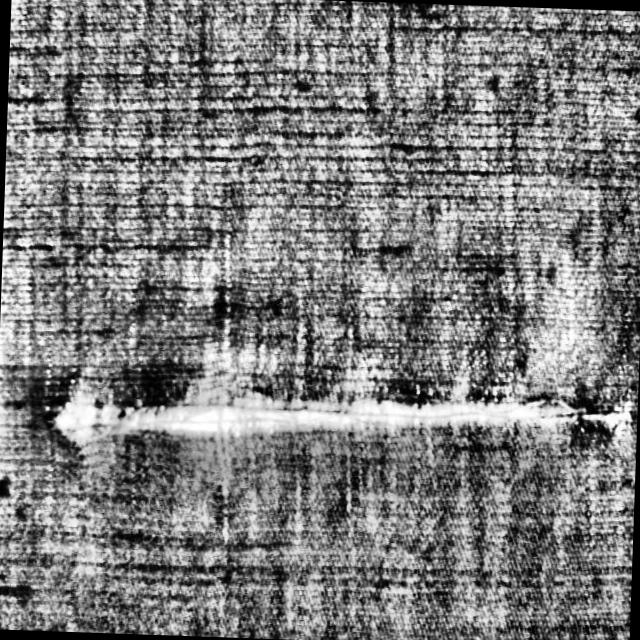baekra: (47, 361, 638, 476)
